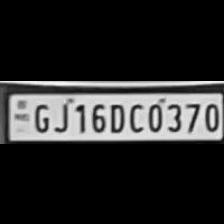0: (200, 99, 222, 131), (144, 99, 164, 131)
1: (71, 100, 87, 132)
3: (164, 100, 182, 132)
6: (86, 100, 106, 132)
7: (182, 98, 200, 132)
C: (125, 100, 144, 132)
D: (105, 100, 124, 132)
G: (30, 100, 50, 132)
J: (51, 98, 70, 132)
